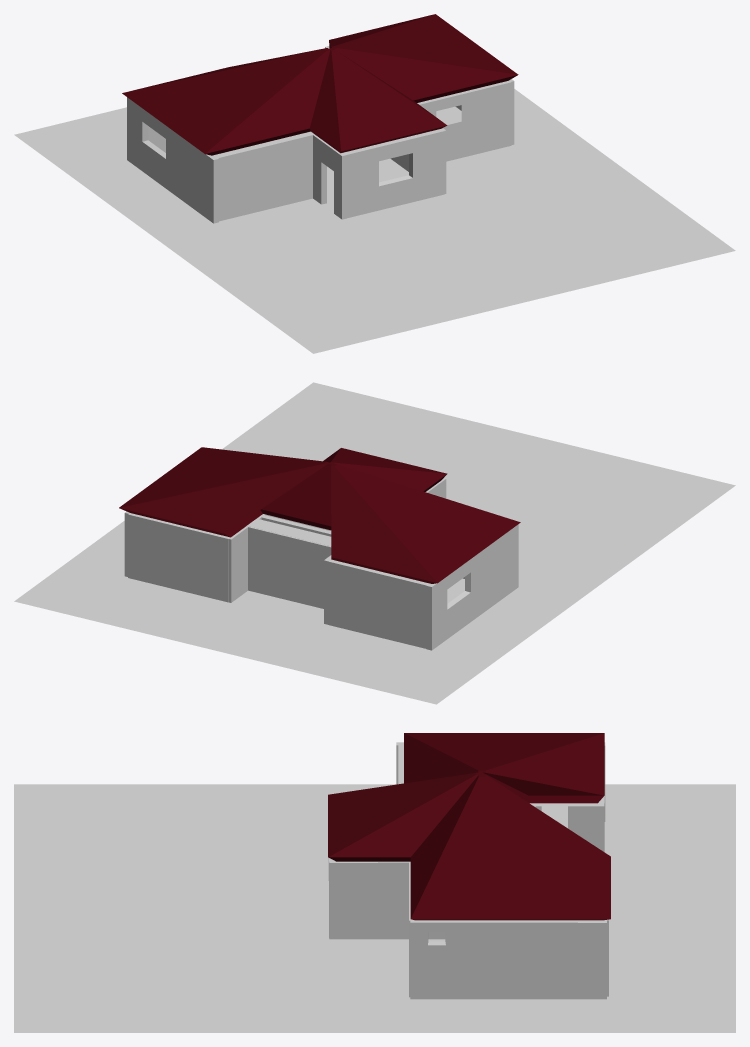
File: my house.fbx
3 renders of one model, top to bottom at view 1: azimuth 30°, elevation 25°; view 2: azimuth 150°, elevation 25°; view 3: azimuth 270°, elevation 25°, orthographic. The views are drawn at different scales.
Parts seen in each view (by area): view 1: Plane, Plane.002, Plane.007, Plane.001; view 2: Plane, Plane.002, Plane.007, Plane.004; view 3: Plane, Plane.002, Plane.007.
Part boxes in pixels (x1=…): Plane: x1=14, y1=89, x2=735, y2=353; Plane.002: x1=122, y1=14, x2=518, y2=155; Plane.007: x1=127, y1=46, x2=514, y2=223; Plane.001: x1=323, y1=106, x2=461, y2=211; Plane: x1=14, y1=382, x2=735, y2=704; Plane.002: x1=119, y1=447, x2=520, y2=583; Plane.007: x1=124, y1=478, x2=518, y2=650; Plane.004: x1=247, y1=519, x2=331, y2=546; Plane: x1=14, y1=784, x2=735, y2=1032; Plane.002: x1=328, y1=733, x2=610, y2=920; Plane.007: x1=328, y1=742, x2=608, y2=999.
Size of the model in its own units: 2448 by 619 by 3004.
